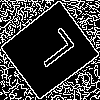L: (24, 25, 77, 76)
